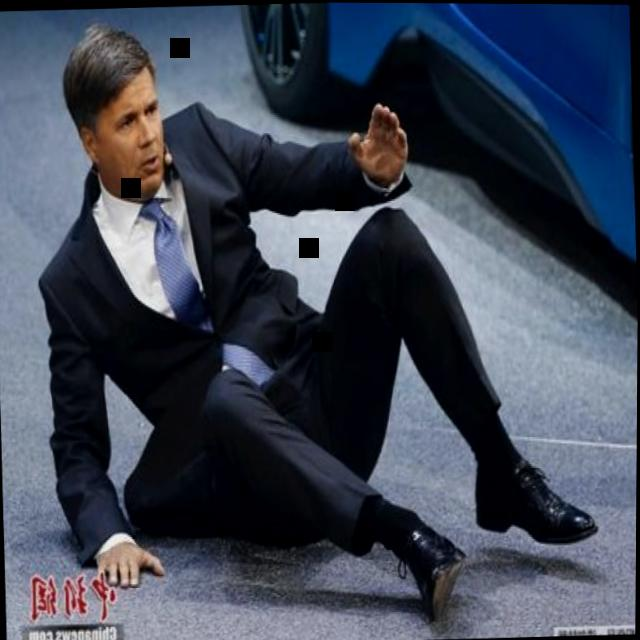Fall-Detected: (9, 0, 619, 640)
